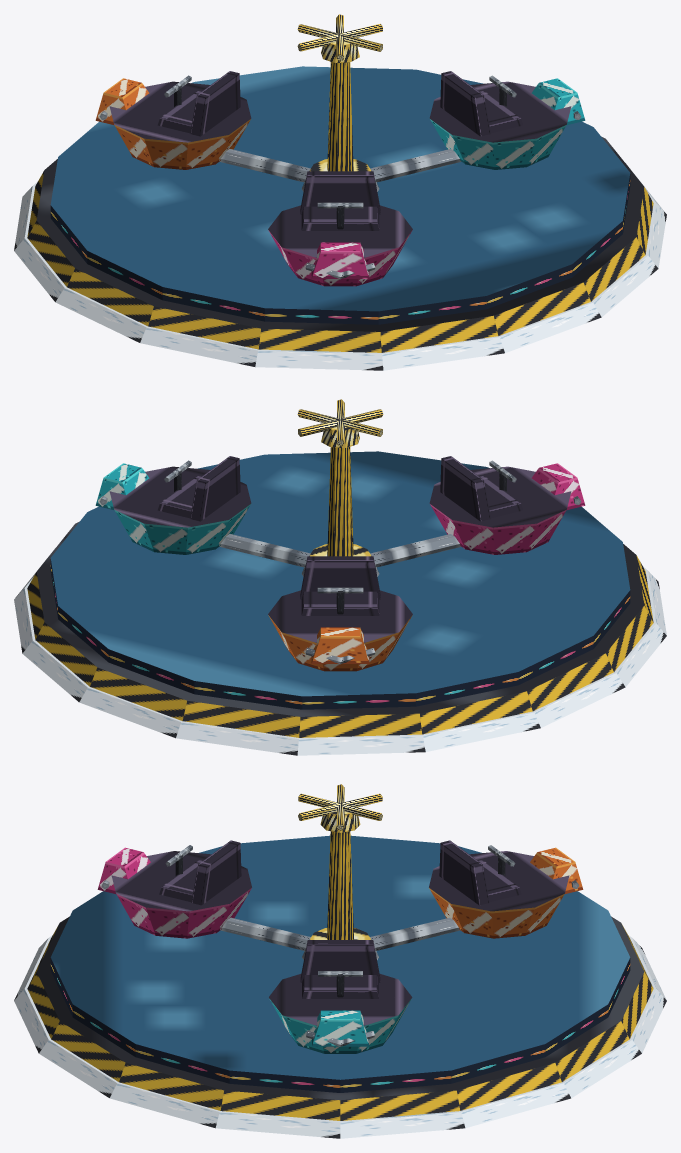
The model's file is SnowcapScrambler.glb.
3 views of the same model, one above another, from view 1: azimuth 30°, elevation 25°; view 2: azimuth 150°, elevation 25°; view 3: azimuth 270°, elevation 25° (orthographic).
Parts seen in each view (by area): view 1: SnowcapScrambler_spin0, SnowcapScrambler, SnowcapScrambler_spin3, SnowcapScrambler_spin1, SnowcapScrambler_spin2; view 2: SnowcapScrambler_spin0, SnowcapScrambler, SnowcapScrambler_spin2, SnowcapScrambler_spin1, SnowcapScrambler_spin3; view 3: SnowcapScrambler_spin0, SnowcapScrambler, SnowcapScrambler_spin1, SnowcapScrambler_spin2, SnowcapScrambler_spin3.
Part boxes in pixels (bbox=[...]): SnowcapScrambler_spin0: bbox=[50, 66, 630, 324]; SnowcapScrambler: bbox=[14, 14, 666, 370]; SnowcapScrambler_spin3: bbox=[268, 171, 412, 286]; SnowcapScrambler_spin1: bbox=[429, 71, 585, 169]; SnowcapScrambler_spin2: bbox=[95, 71, 251, 169]; SnowcapScrambler_spin0: bbox=[50, 451, 630, 709]; SnowcapScrambler: bbox=[14, 399, 666, 755]; SnowcapScrambler_spin2: bbox=[268, 556, 412, 671]; SnowcapScrambler_spin1: bbox=[95, 456, 251, 554]; SnowcapScrambler_spin3: bbox=[429, 456, 585, 554]; SnowcapScrambler_spin0: bbox=[50, 835, 630, 1092]; SnowcapScrambler: bbox=[14, 784, 666, 1138]; SnowcapScrambler_spin1: bbox=[268, 940, 412, 1053]; SnowcapScrambler_spin2: bbox=[429, 840, 583, 938]; SnowcapScrambler_spin3: bbox=[97, 840, 251, 938].
Size of the model in its own units: 9.8 by 3.26 by 9.8.
Materials: 1 (1 with a texture image).
